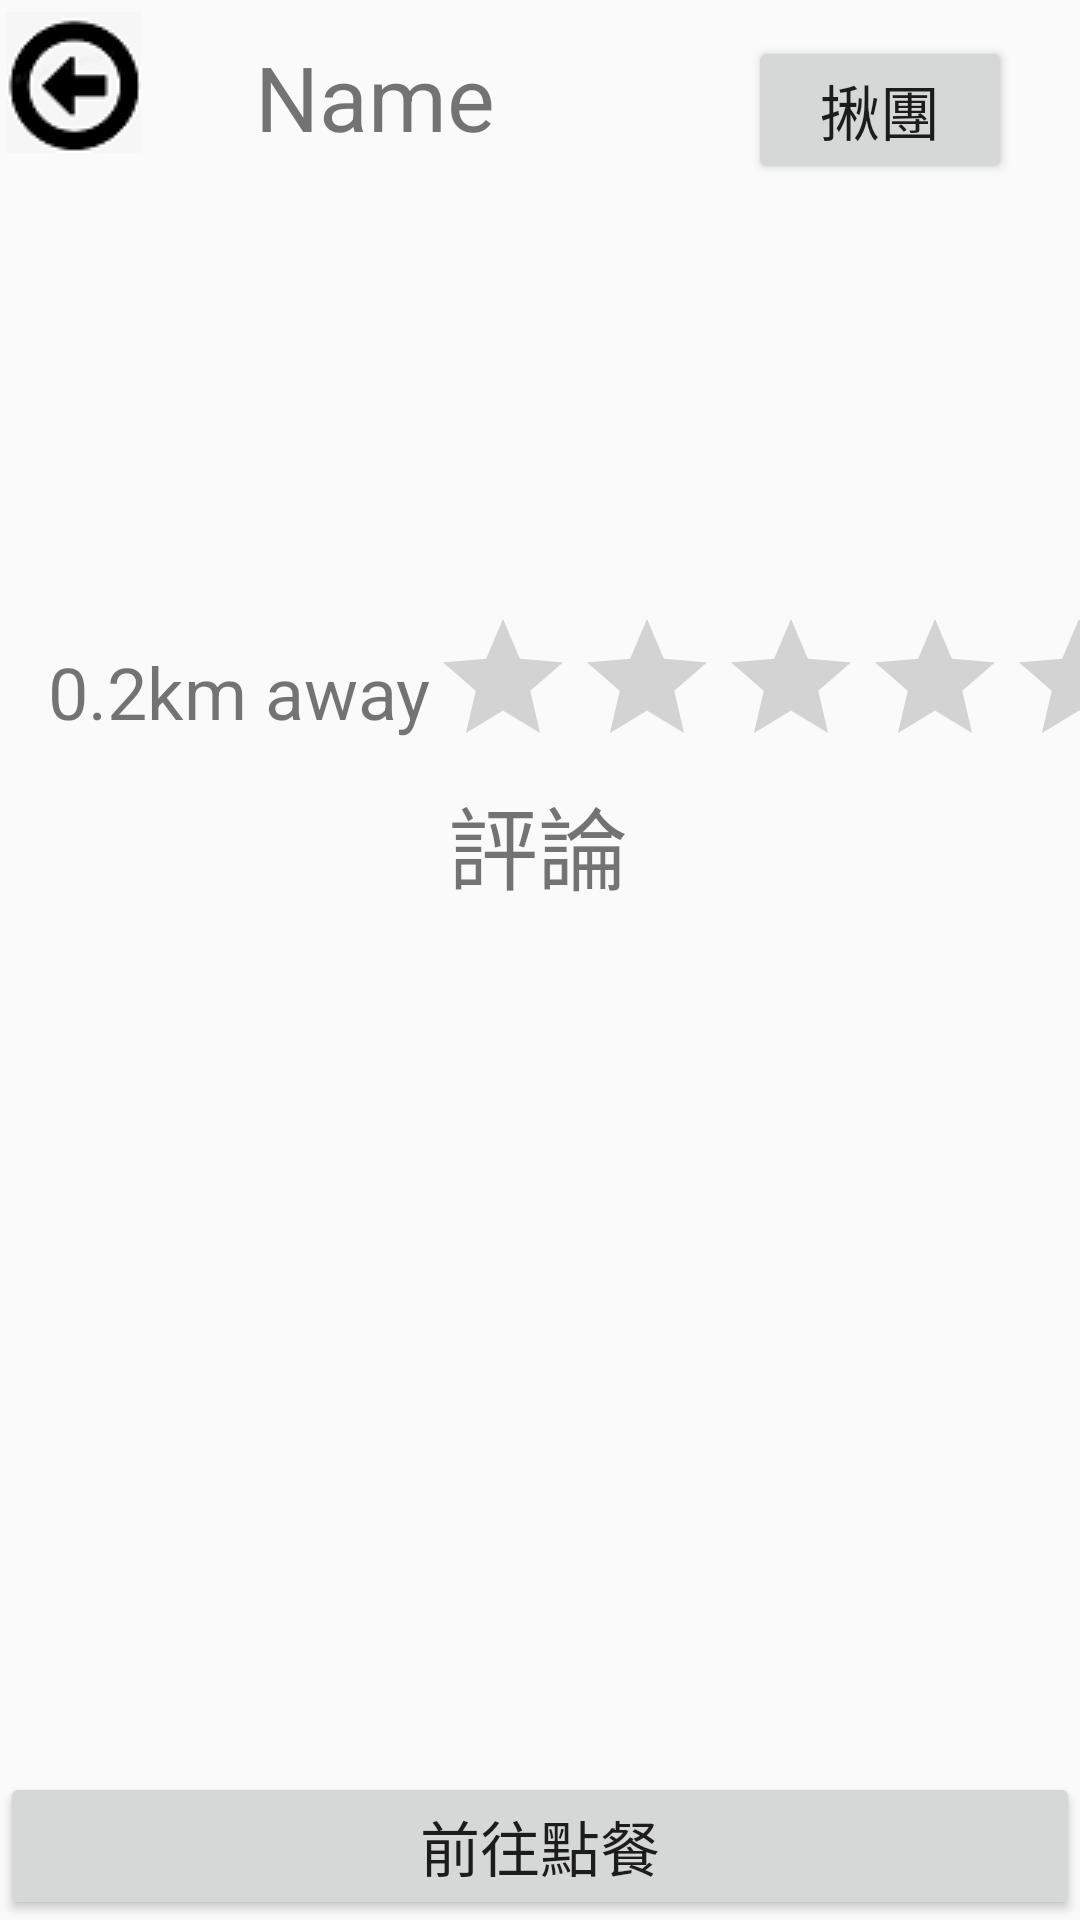

Screen size 1080 × 1920. Icon name, then its center in pixels as [x,y]:
back: [73,85]
